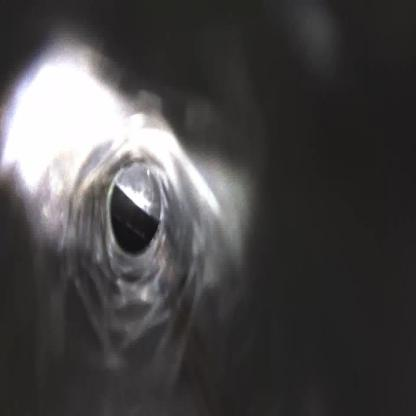Crack: (75, 112, 205, 335)
